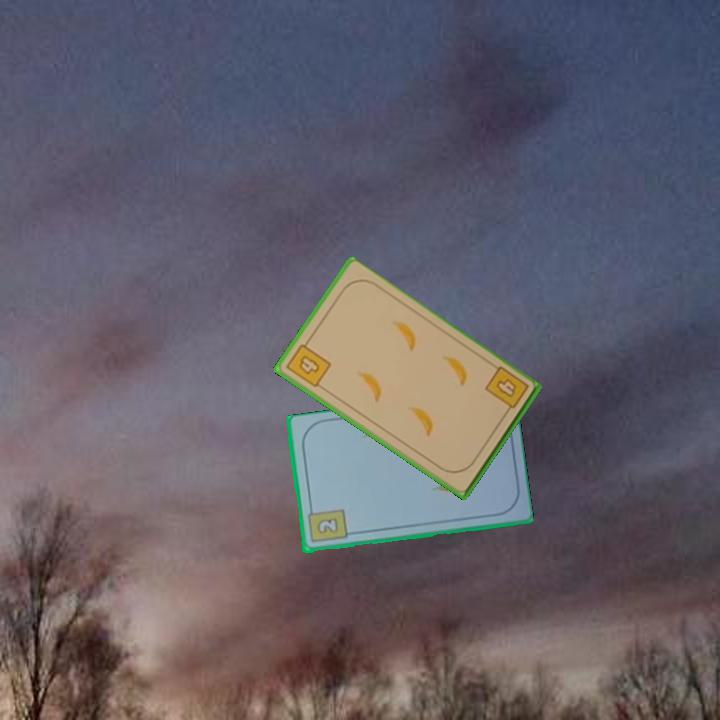2b: (304, 503, 349, 546)
4b: (282, 336, 334, 391), (481, 363, 532, 418)
